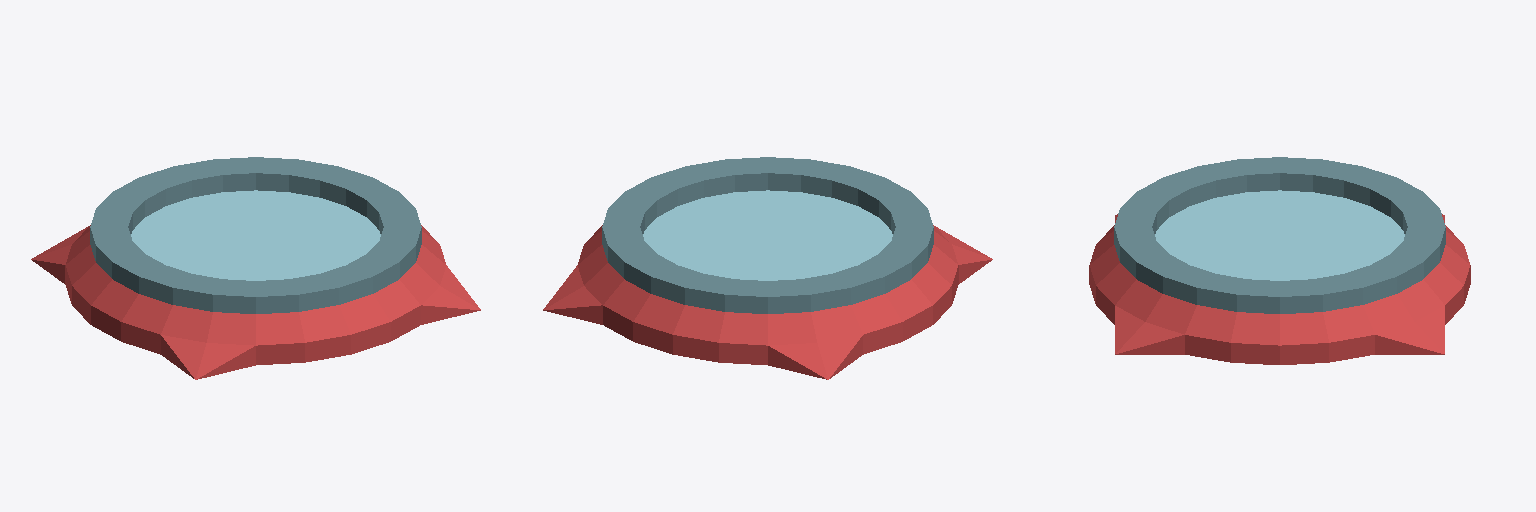
File: Checkpoint.obj
3 renders of one model, left to right at view 1: azimuth 30°, elevation 25°; view 2: azimuth 150°, elevation 25°; view 3: azimuth 270°, elevation 25°, orthographic.
Visible parts, largest first — view 1: towerRound_crystals; view 2: towerRound_crystals; view 3: towerRound_crystals.
Boxes of the visible parts, box(x1,y1,x2,y2) form: towerRound_crystals: box(31, 157, 480, 379); towerRound_crystals: box(543, 157, 992, 379); towerRound_crystals: box(1089, 157, 1470, 364).
Size of the model in its own units: 1 by 0.1674 by 1.